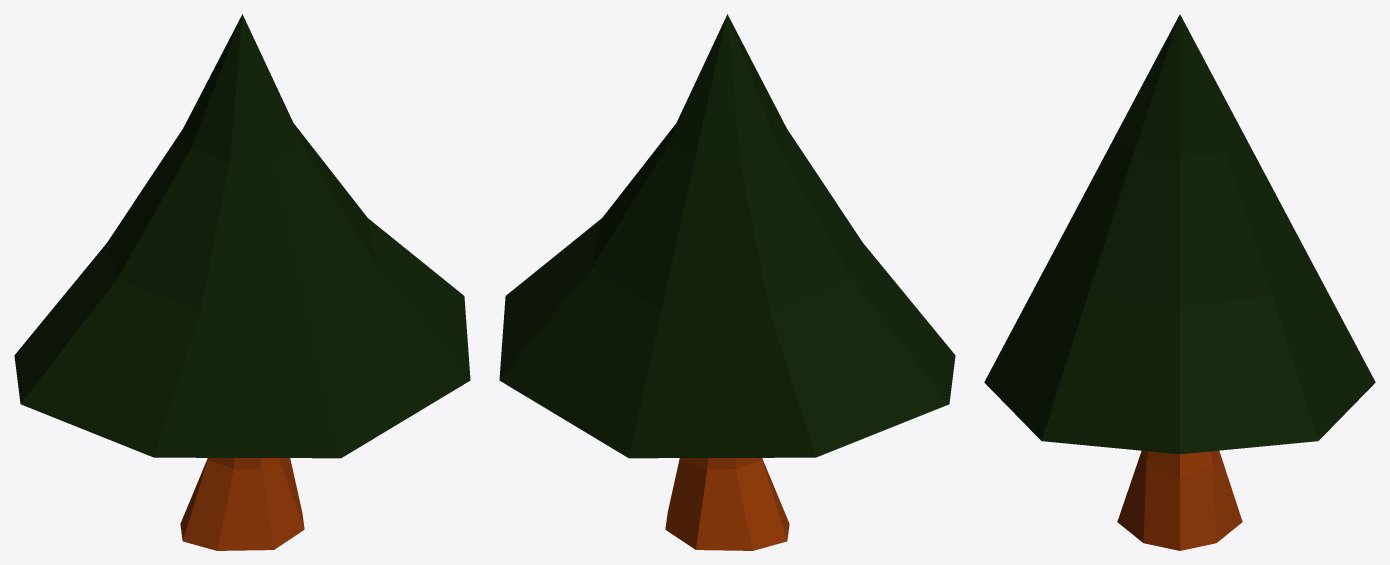
Rendered from Tree2.fbx.
3 views of the same model, side by side, from view 1: azimuth 30°, elevation 25°; view 2: azimuth 150°, elevation 25°; view 3: azimuth 270°, elevation 25° (orthographic).
Parts seen in each view (by area): view 1: Cone001; view 2: Cone001; view 3: Cone001.
Boxes of the visible parts, left/top/right/bottom form: Cone001: left=14, top=14, right=470, bottom=550; Cone001: left=499, top=14, right=955, bottom=550; Cone001: left=984, top=14, right=1375, bottom=550.
Size of the model in its own units: 33.05 by 36.49 by 25.49.
